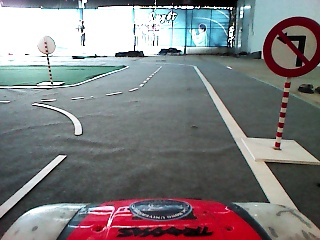ban: (258, 14, 320, 81)
